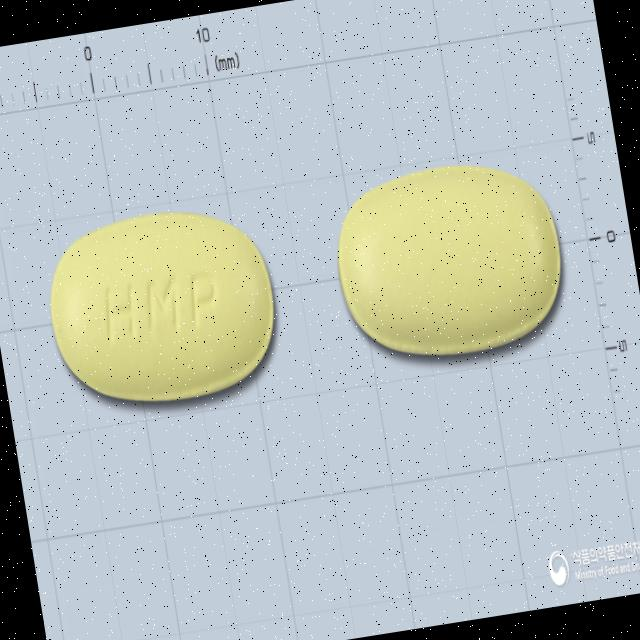Clari: (322, 144, 582, 380), (34, 190, 295, 425)
